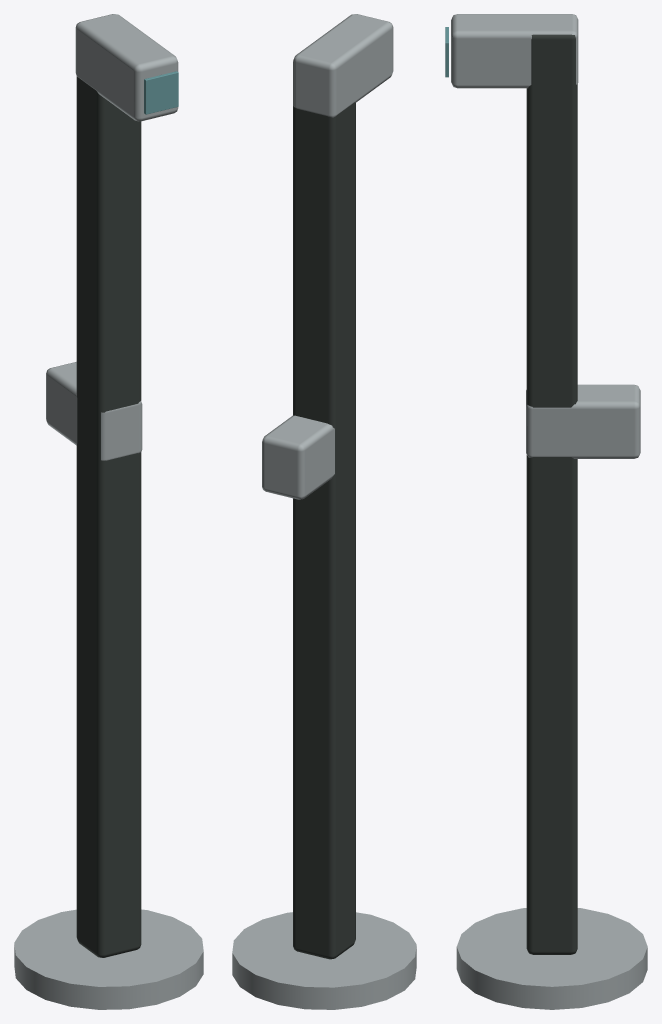
File: prehistoric-expedition-sites-observation-periscope-9e47b216__26127.glb
3 views of the same model, side by side, from view 1: azimuth 30°, elevation 25°; view 2: azimuth 150°, elevation 25°; view 3: azimuth 270°, elevation 25° (orthographic). The views are drawn at different scales.
Parts seen in each view (by area): view 1: observation-periscope; view 2: observation-periscope; view 3: observation-periscope.
Boxes of the visible parts, box(x1,y1,x2,y2) form: observation-periscope: box(14, 14, 203, 1009); observation-periscope: box(232, 14, 416, 1009); observation-periscope: box(445, 14, 647, 1009).
Bounding box in the file's own units: 0.2999 × 1.64 × 0.318.
